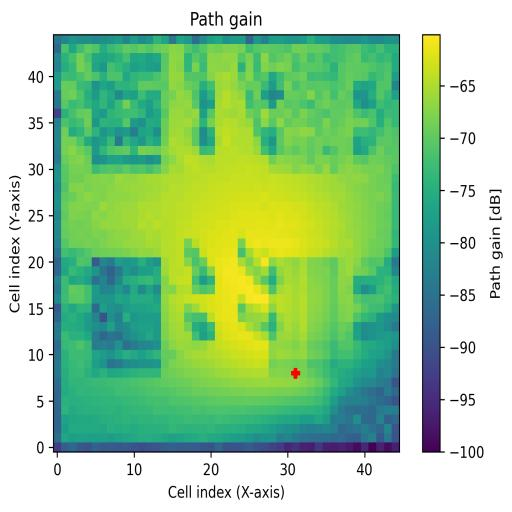Concrete: (268, 56, 346, 172)
Glass: (92, 54, 169, 173)
Metal: (268, 256, 340, 376)
Wood: (92, 256, 162, 379)
